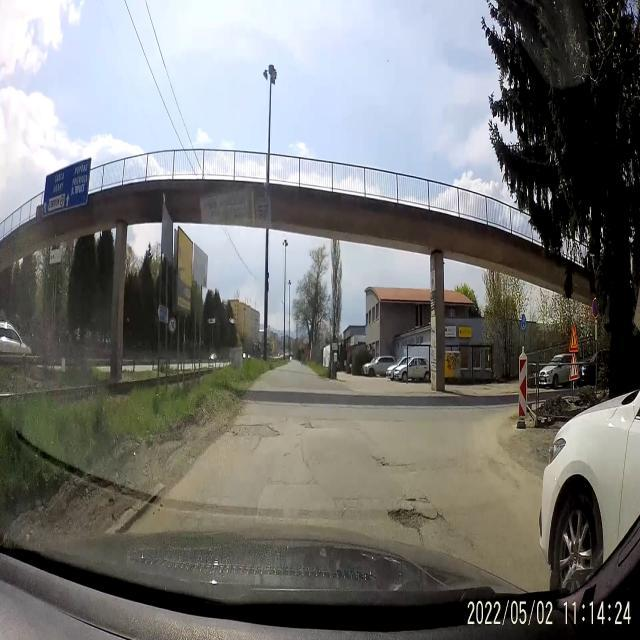Pothole: (390, 492, 448, 538), (228, 418, 282, 448), (372, 450, 408, 479), (294, 415, 318, 432)
